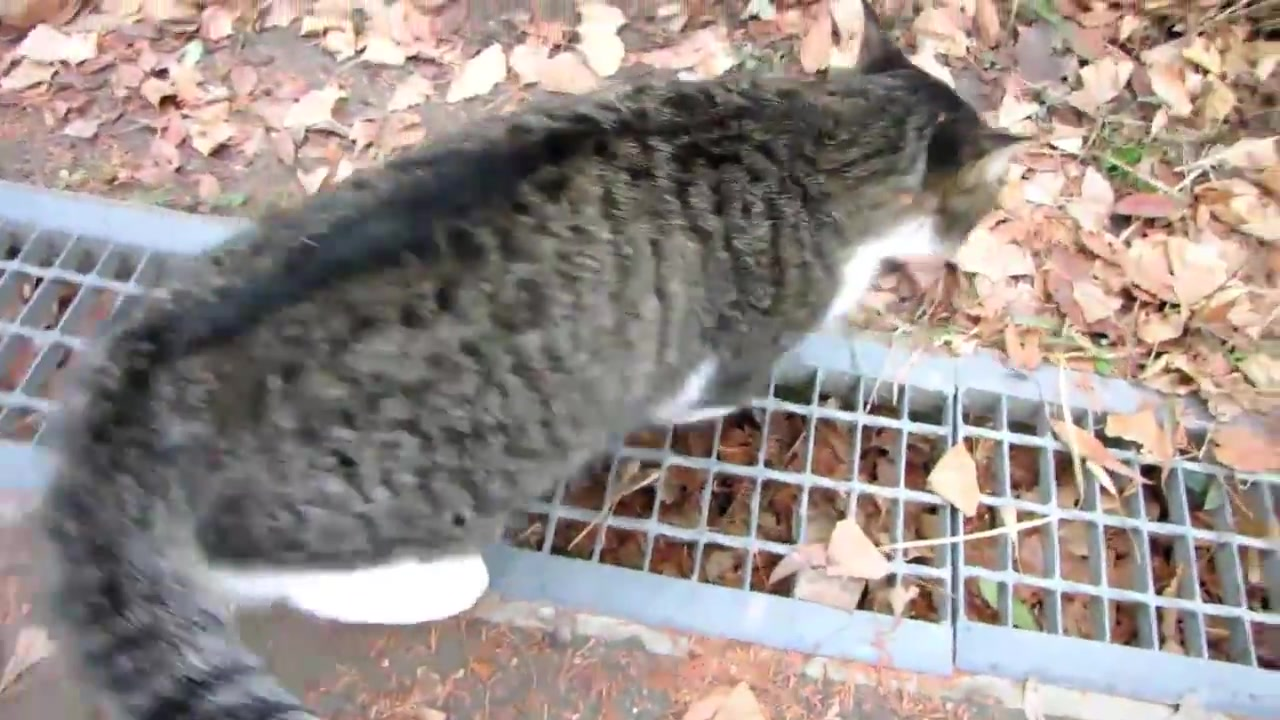cat: (68, 6, 1045, 720)
